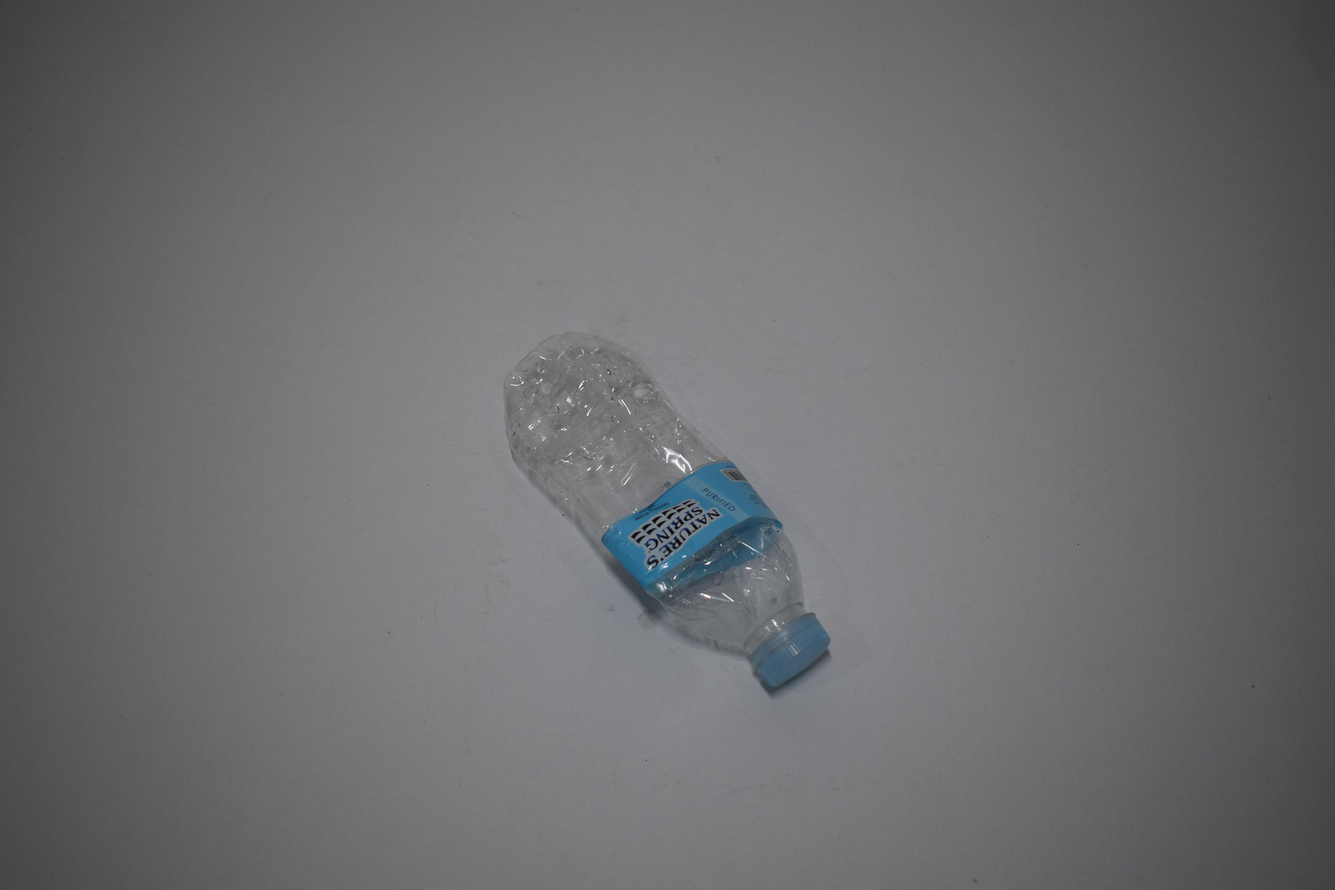plastic: (498, 332, 834, 698)
